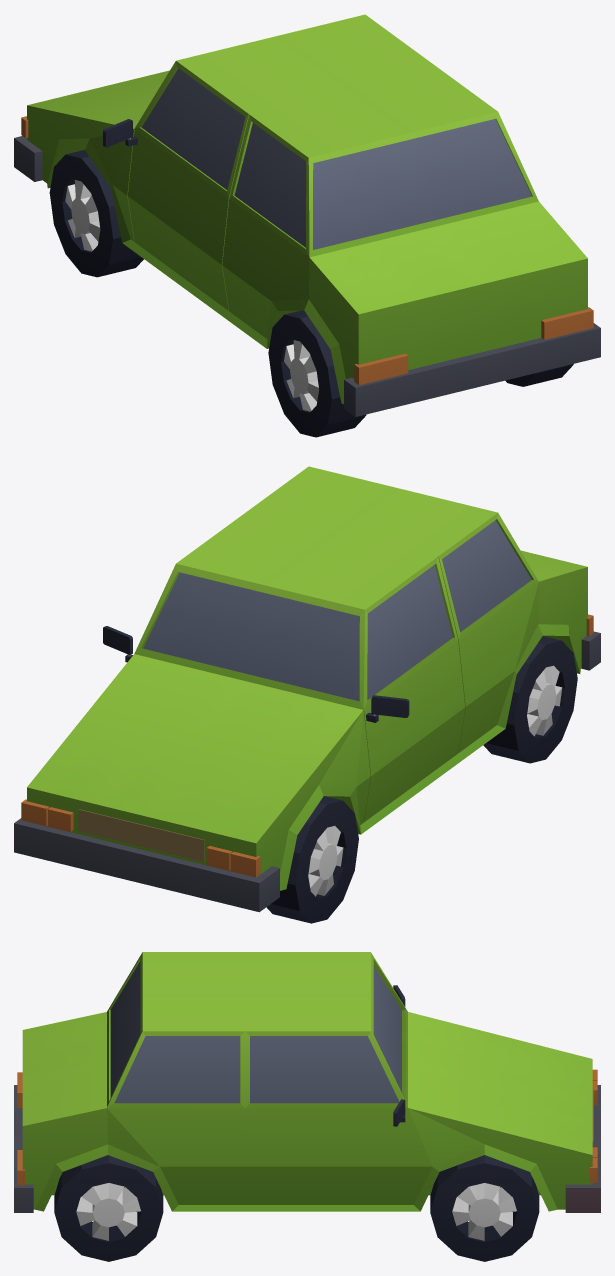
The model's file is mobil lemon.fbx.
The picture shows the model from 3 angles, top to bottom: view 1: azimuth 30°, elevation 25°; view 2: azimuth 150°, elevation 25°; view 3: azimuth 270°, elevation 25°; orthographic projection. The views are drawn at different scales.
Parts seen in each view (by area): view 1: mobil lemon; view 2: mobil lemon; view 3: mobil lemon.
Part boxes in pixels (x1=…): mobil lemon: x1=14, y1=14, x2=600, y2=437; mobil lemon: x1=14, y1=466, x2=600, y2=923; mobil lemon: x1=14, y1=952, x2=600, y2=1261.
Bounding box in the file's own units: 1.32 × 1.05 × 2.55.
